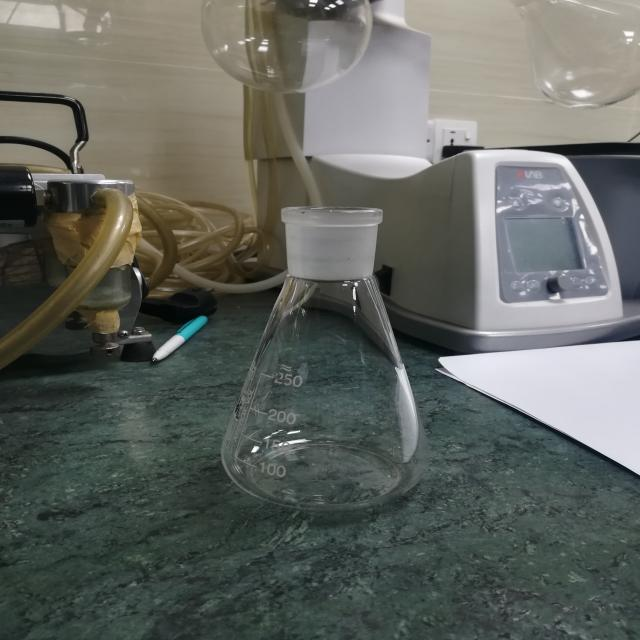Conical_Flask: (196, 176, 458, 535)
